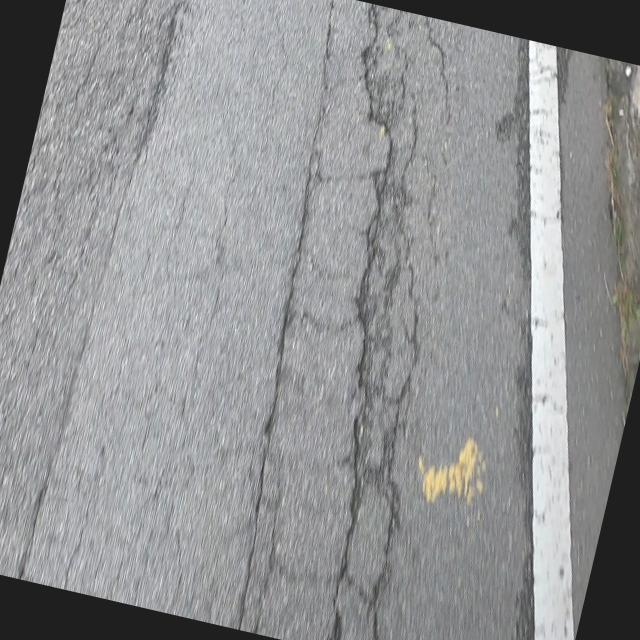Retak-Buaya: (0, 0, 175, 578), (321, 4, 438, 640)
Retak-Memanjang: (235, 0, 334, 629)
